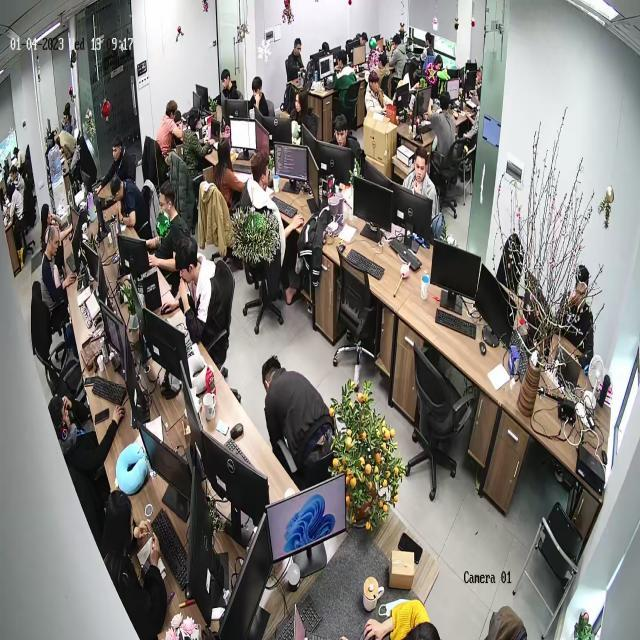person: (258, 351, 335, 486), (100, 489, 168, 639), (241, 149, 302, 310), (158, 236, 228, 374), (45, 392, 124, 485), (142, 182, 189, 281), (554, 263, 595, 367), (41, 223, 75, 331), (362, 596, 440, 639), (91, 134, 137, 198), (402, 145, 441, 220), (109, 174, 150, 237), (214, 138, 248, 211), (182, 106, 213, 181), (427, 88, 457, 161), (4, 166, 26, 263), (362, 71, 399, 124), (157, 98, 184, 166), (38, 203, 74, 250), (288, 84, 318, 134), (332, 47, 358, 104), (327, 112, 360, 153), (246, 75, 275, 116), (283, 37, 309, 82), (386, 31, 409, 80), (214, 65, 242, 99), (417, 30, 435, 69)
